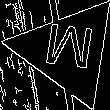M_S: (40, 22, 96, 79)
